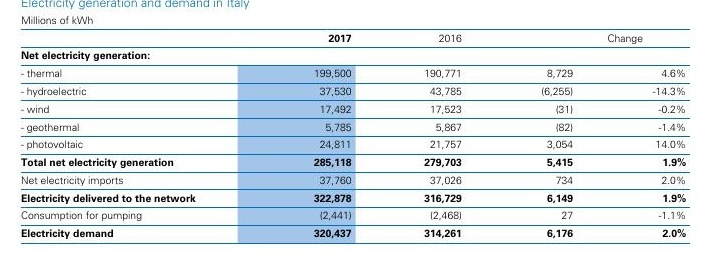table: (0, 0, 712, 260)
